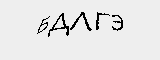Б: (36, 15, 49, 35)
Г: (95, 11, 110, 30)
Д: (49, 12, 71, 34)
Л: (71, 11, 92, 34)
Э: (110, 13, 127, 29)
